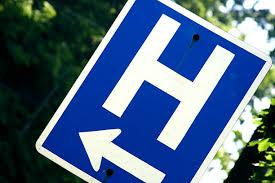Hospital: (72, 1, 235, 183)
